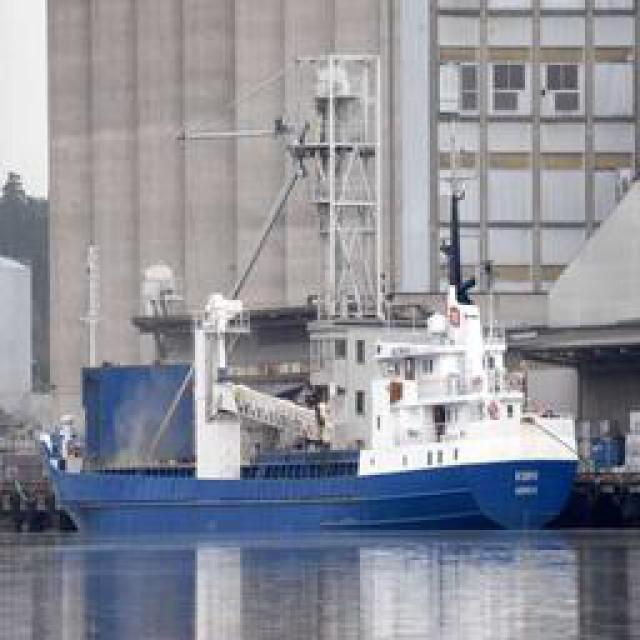Ship: (80, 213, 588, 528)
